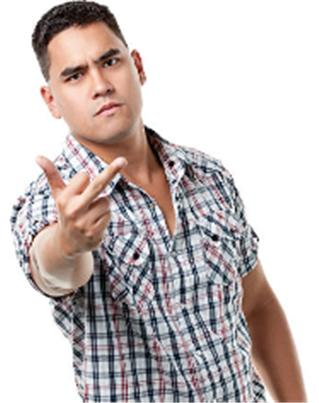insulting_gesture: (32, 152, 127, 269)
